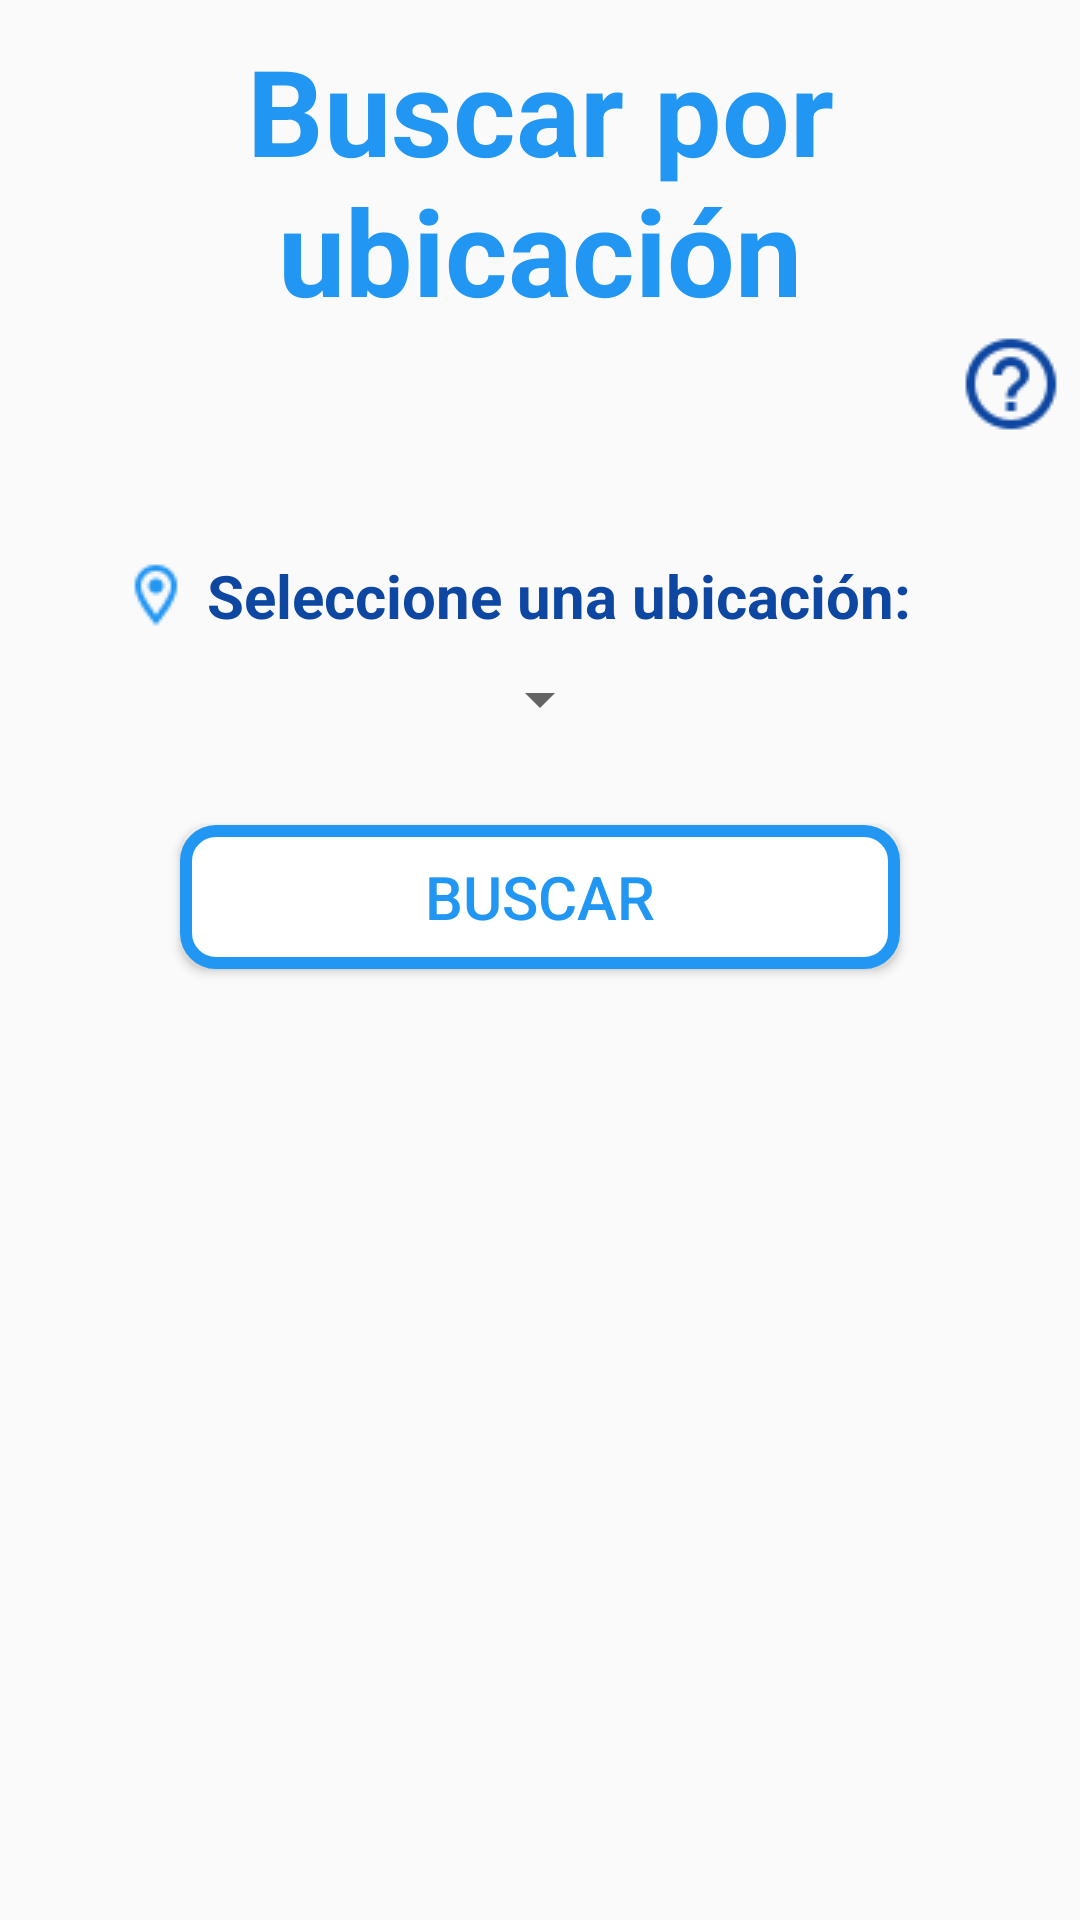

Screen size 1080 x 1920. Icon name, then its center in pixels as (x=x, y=y):
iconoubicacion: (x=156, y=595)
